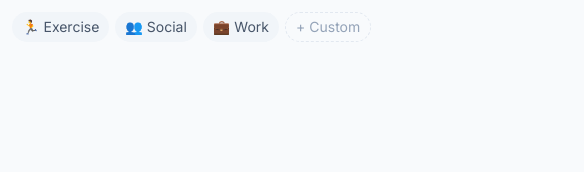
Test: ActivityPicker › + Custom button opens new activity form
This screenshot has width=584, height=172.
Step 1. Click the button with aria-label "add custom activity" → (328, 27), box [285,12,371,42]
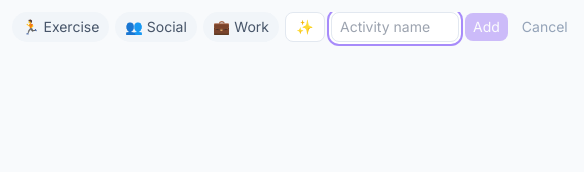
expect the field with placeholder "Activity name" is shown: met, box [331,12,459,42]
